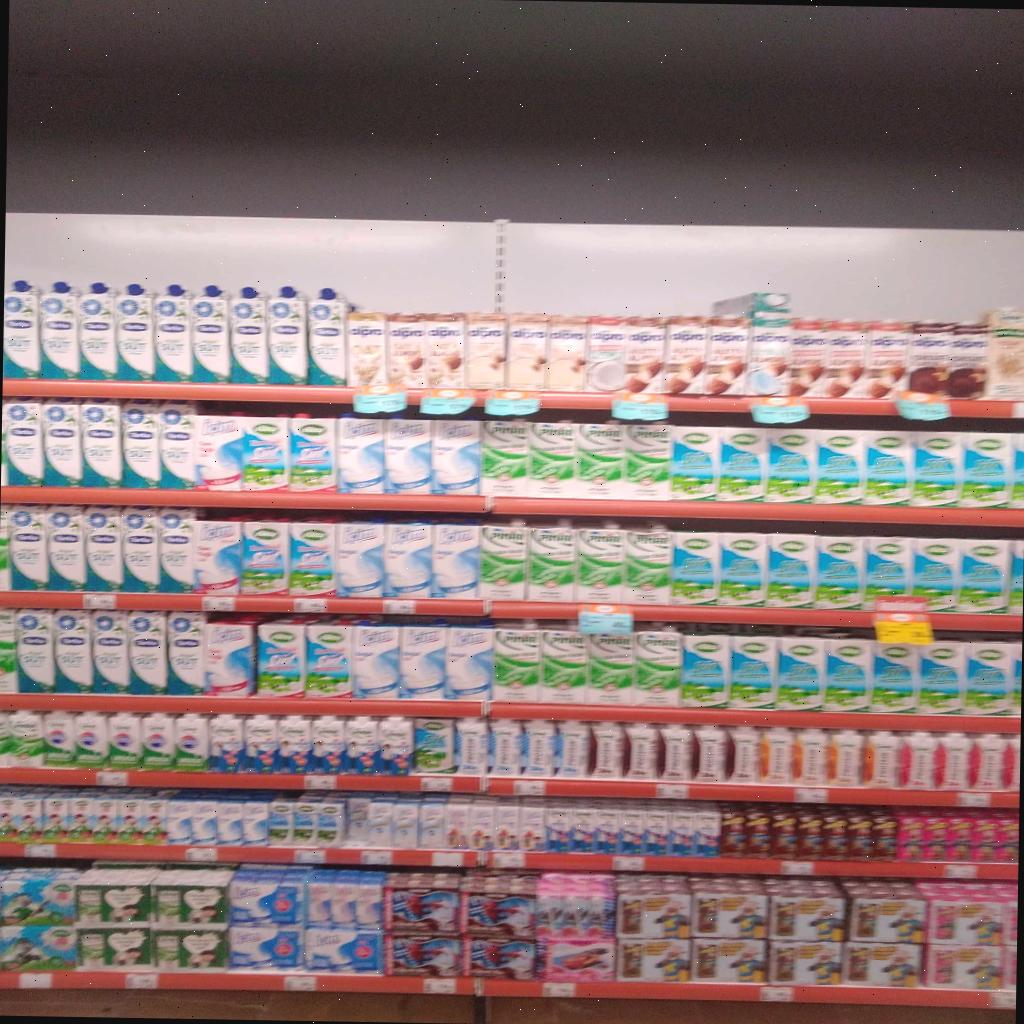price_tag: (873, 596, 933, 645), (578, 604, 634, 635), (612, 391, 668, 421), (895, 391, 949, 421), (750, 397, 809, 424), (353, 384, 407, 413), (420, 388, 475, 415), (485, 390, 539, 416), (655, 783, 689, 800), (492, 851, 525, 868), (202, 596, 236, 612), (943, 864, 977, 880), (18, 973, 52, 989), (542, 982, 576, 998), (795, 787, 828, 803), (958, 792, 991, 808), (423, 978, 456, 994), (125, 973, 158, 989), (284, 975, 317, 991), (185, 846, 217, 862), (361, 849, 393, 865), (294, 598, 326, 614), (84, 593, 116, 609), (612, 856, 644, 872), (294, 848, 326, 864), (383, 599, 415, 615), (431, 850, 463, 866), (781, 860, 813, 876), (513, 780, 545, 796), (760, 987, 793, 1002), (421, 776, 453, 791), (96, 771, 128, 786), (23, 844, 57, 858), (990, 992, 1015, 1009), (306, 775, 336, 789), (1011, 402, 1023, 417)
product: (841, 879, 927, 944), (926, 885, 1014, 946), (536, 873, 615, 939), (461, 872, 537, 940), (383, 871, 461, 937), (77, 866, 161, 926), (229, 867, 311, 926), (0, 867, 83, 925), (768, 880, 845, 942), (616, 876, 690, 940), (690, 879, 768, 939), (308, 869, 384, 930), (155, 869, 234, 927), (187, 287, 231, 380), (713, 531, 767, 606), (39, 281, 80, 378), (958, 432, 1011, 507), (908, 536, 960, 612), (861, 430, 914, 504), (613, 317, 665, 392), (811, 534, 863, 609), (267, 287, 307, 384), (862, 319, 911, 398), (908, 433, 961, 506), (958, 539, 1010, 613), (229, 287, 269, 383), (480, 421, 531, 496), (479, 521, 528, 599), (813, 430, 865, 503), (78, 282, 117, 379), (153, 284, 192, 381), (527, 422, 578, 496), (537, 629, 588, 703), (631, 630, 682, 704), (196, 415, 246, 490), (526, 526, 576, 601), (766, 533, 816, 608), (352, 623, 402, 698), (334, 521, 383, 597), (575, 527, 624, 603), (116, 285, 155, 380), (384, 521, 432, 598), (623, 527, 671, 604), (983, 308, 1024, 398), (2, 281, 40, 378), (843, 941, 923, 987), (205, 621, 254, 696), (622, 425, 672, 498), (288, 519, 336, 595), (704, 316, 750, 395), (430, 420, 479, 494), (576, 424, 625, 498), (240, 521, 289, 595), (77, 924, 154, 971), (492, 627, 540, 702), (917, 641, 967, 713), (304, 928, 382, 974), (823, 638, 872, 711), (305, 621, 352, 697), (0, 924, 76, 971), (288, 417, 336, 491), (383, 419, 431, 493), (670, 427, 719, 499), (258, 621, 305, 696), (924, 944, 1002, 989), (241, 417, 289, 490), (681, 633, 729, 706), (776, 637, 824, 710), (717, 430, 767, 500), (765, 431, 815, 501), (337, 418, 384, 492), (194, 520, 241, 594), (446, 626, 493, 700), (309, 289, 345, 385), (864, 537, 912, 609), (81, 402, 122, 486), (746, 317, 790, 395), (537, 937, 615, 981), (432, 523, 479, 596), (228, 924, 304, 969), (587, 633, 635, 704), (400, 625, 446, 699), (4, 400, 44, 485), (46, 506, 86, 591), (385, 933, 462, 977), (907, 321, 954, 393), (871, 641, 918, 713), (615, 937, 690, 982), (767, 940, 842, 985), (84, 507, 124, 591), (127, 610, 167, 694), (672, 531, 718, 604), (664, 316, 707, 394), (586, 316, 630, 392), (9, 507, 49, 590), (53, 609, 93, 692), (120, 507, 159, 592), (15, 608, 54, 692), (729, 636, 775, 707), (692, 939, 766, 983), (786, 318, 827, 397), (90, 610, 129, 693), (826, 320, 868, 397), (44, 400, 82, 485), (122, 402, 160, 487), (154, 927, 227, 971), (506, 314, 548, 390), (159, 404, 197, 488), (158, 508, 196, 592), (463, 936, 535, 980), (946, 322, 987, 398), (166, 612, 204, 694), (424, 313, 465, 388), (545, 316, 586, 391), (465, 313, 505, 389), (388, 314, 428, 388), (348, 312, 386, 386), (965, 811, 1012, 861), (414, 718, 454, 772), (659, 725, 697, 780), (208, 714, 244, 772), (827, 729, 863, 786), (864, 731, 900, 788), (8, 710, 44, 766), (970, 733, 1005, 790), (244, 715, 278, 773), (900, 731, 934, 789), (311, 716, 346, 772), (940, 812, 980, 861), (379, 716, 412, 774), (523, 720, 557, 776), (760, 727, 794, 783), (175, 714, 208, 771), (692, 725, 725, 782), (141, 714, 175, 769), (590, 722, 624, 777), (346, 716, 378, 774), (793, 729, 826, 785), (43, 712, 77, 766), (278, 716, 310, 773), (556, 721, 588, 777), (108, 713, 141, 767), (75, 712, 107, 767), (456, 718, 487, 774), (626, 723, 657, 779), (489, 720, 520, 775), (729, 727, 759, 783), (60, 794, 94, 841), (0, 609, 18, 693), (168, 791, 193, 851), (41, 793, 72, 840), (240, 796, 268, 847), (794, 808, 822, 859), (845, 810, 874, 859), (194, 790, 218, 849), (11, 796, 42, 841), (896, 810, 924, 859), (719, 805, 745, 856), (770, 809, 797, 858), (870, 811, 897, 860), (348, 794, 372, 849), (695, 806, 720, 857), (122, 794, 146, 846), (922, 815, 949, 861), (822, 812, 848, 859), (296, 796, 318, 850), (272, 794, 293, 850), (745, 810, 770, 856), (995, 813, 1018, 862), (1009, 433, 1024, 508), (220, 796, 240, 852), (422, 802, 446, 848), (368, 800, 392, 844), (98, 794, 118, 846), (1009, 539, 1023, 613), (326, 797, 348, 844), (146, 795, 164, 851), (399, 799, 418, 851), (668, 813, 692, 854), (492, 804, 515, 846), (516, 804, 540, 844), (622, 812, 646, 852), (596, 808, 619, 849), (1008, 643, 1021, 714), (469, 808, 492, 848), (448, 804, 470, 845), (574, 812, 596, 853), (646, 810, 668, 851), (548, 810, 570, 850), (0, 795, 16, 839), (0, 711, 12, 765), (30, 810, 33, 812), (97, 333, 99, 334), (124, 738, 126, 738)
